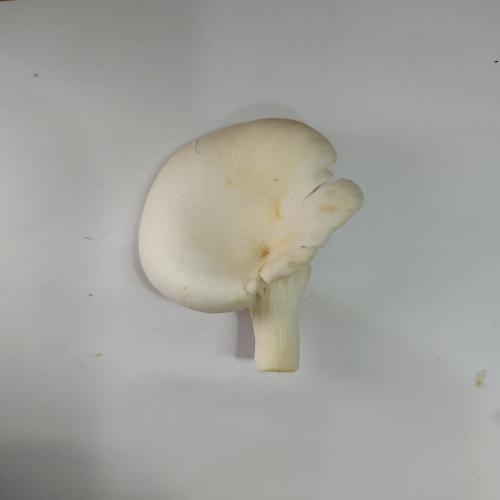Oyster Mushroom: (137, 117, 365, 373)
